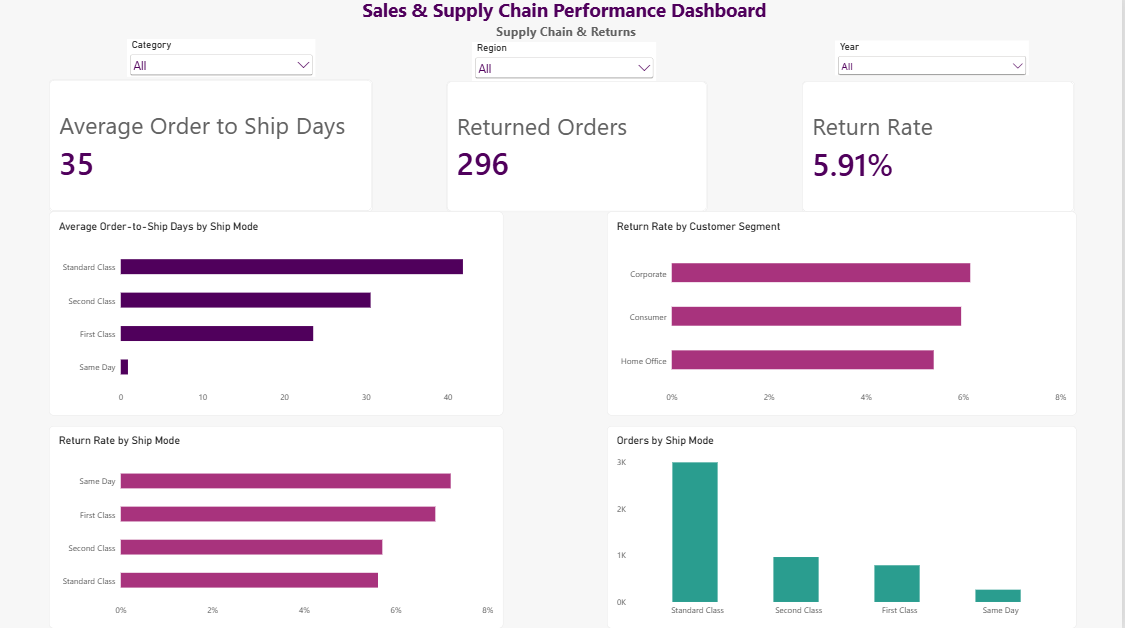

The dashboard page shown, as its layout file describes it:
{"tool":"powerbi","page":{"name":"Supply Chain & Returns","canvas":[1920,1080],"ordinal":2},"visuals":[{"type":"cardVisual","fields":{"Data":["Cleaned Sales Data.Average Order to Ship Days"]},"box":[88.3,140.8,553.5,226.7],"z":0},{"type":"cardVisual","fields":{"Data":["Cleaned Sales Data.Returned Orders"]},"box":[765.9,143.2,446.2,224.3],"z":1000},{"type":"cardVisual","fields":{"Data":["Cleaned Sales Data.Return Rate"]},"box":[1374.3,143.2,466.7,225.6],"z":2000},{"type":"clusteredBarChart","title":"Average Order-to-Ship Days by Ship Mode","fields":{"Category":["Cleaned Sales Data.Ship Mode"],"Y":["Cleaned Sales Data.Average Order to Ship Days"]},"box":[88.3,367.4,776.9,348.7],"z":3000},{"type":"clusteredBarChart","title":"Return Rate by Ship Mode","fields":{"Category":["Cleaned Sales Data.Ship Mode"],"Y":["Cleaned Sales Data.Return Rate"]},"box":[88.3,732.5,776.9,346.2],"z":4000},{"type":"clusteredBarChart","title":"Return Rate by Customer Segment","fields":{"Category":["Cleaned Sales Data.Segment"],"Y":["Cleaned Sales Data.Return Rate"]},"box":[1040.3,367.4,802.6,348.7],"z":5000},{"type":"clusteredColumnChart","title":"Orders by Ship Mode","fields":{"Category":["Cleaned Sales Data.Ship Mode"],"Y":["Cleaned Sales Data.Total Orders"]},"box":[1040.3,732.5,802.6,346.2],"z":6000},{"type":"slicer","fields":{"Values":["Cleaned Sales Data.Region"]},"box":[811.2,76.3,314.9,66.8],"z":7000},{"type":"slicer","fields":{"Values":["Cleaned Sales Data.Category"]},"box":[219.5,71.6,322.1,64.4],"z":8000},{"type":"slicer","fields":{"Values":["Calendar Table.Year"]},"box":[1431.5,74,331.6,59.6],"z":9000},{"type":"textbox","box":[505.8,0,925.7,76.3],"z":9001}]}

Visuals, with their boxes in screenshot pixels (x1, y1, x2, y2), scaled from the page's 1920x1080 canvas onto the 1125x628 screenshot:
cardVisual - Cleaned Sales Data.Average Order to Ship Days: x1=52, y1=82, x2=376, y2=214
cardVisual - Cleaned Sales Data.Returned Orders: x1=449, y1=83, x2=710, y2=214
cardVisual - Cleaned Sales Data.Return Rate: x1=805, y1=83, x2=1079, y2=214
"Average Order-to-Ship Days by Ship Mode" clusteredBarChart: x1=52, y1=214, x2=507, y2=416
"Return Rate by Ship Mode" clusteredBarChart: x1=52, y1=426, x2=507, y2=627
"Return Rate by Customer Segment" clusteredBarChart: x1=610, y1=214, x2=1080, y2=416
"Orders by Ship Mode" clusteredColumnChart: x1=610, y1=426, x2=1080, y2=627
slicer - Cleaned Sales Data.Region: x1=475, y1=44, x2=660, y2=83
slicer - Cleaned Sales Data.Category: x1=129, y1=42, x2=317, y2=79
slicer - Calendar Table.Year: x1=839, y1=43, x2=1033, y2=78
textbox: x1=296, y1=0, x2=839, y2=44
